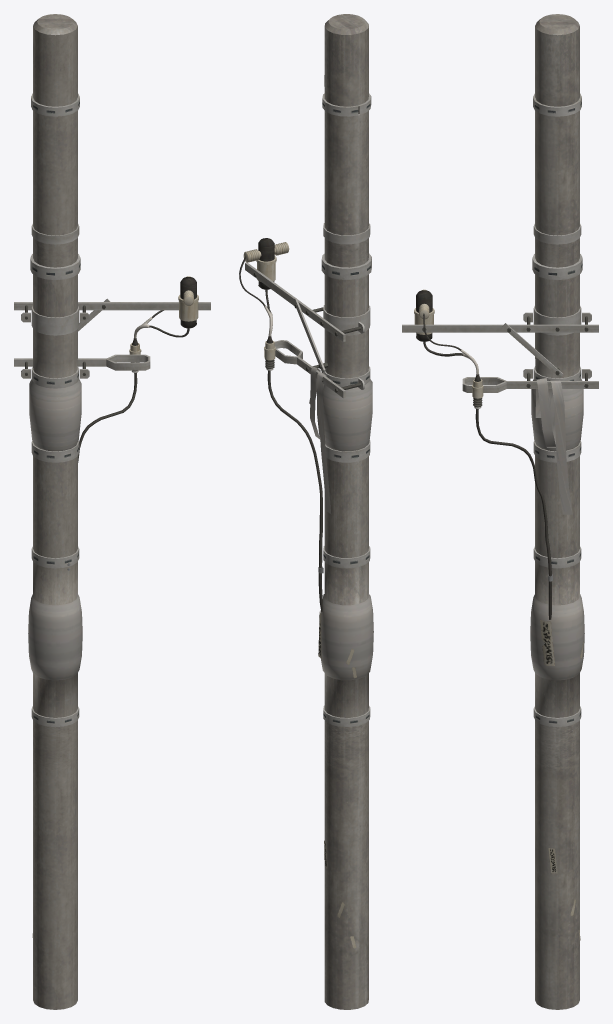
File: SM_ENV_LKNVLD_UtilityPole_B.FBX
3 views of the same model, side by side, from view 1: azimuth 90°, elevation 25°; view 2: azimuth 210°, elevation 25°; view 3: azimuth 270°, elevation 25° (orthographic).
Visible parts, largest first — view 1: SM_ENV_LKNVLD_UtilityPole_B; view 2: SM_ENV_LKNVLD_UtilityPole_B; view 3: SM_ENV_LKNVLD_UtilityPole_B.
Part boxes in pixels (box(x1,y1,x2,y2)): SM_ENV_LKNVLD_UtilityPole_B: box(14, 14, 210, 1009); SM_ENV_LKNVLD_UtilityPole_B: box(239, 14, 373, 1009); SM_ENV_LKNVLD_UtilityPole_B: box(402, 14, 598, 1009).
Size of the model in its own units: 82.65 by 1172 by 213.
